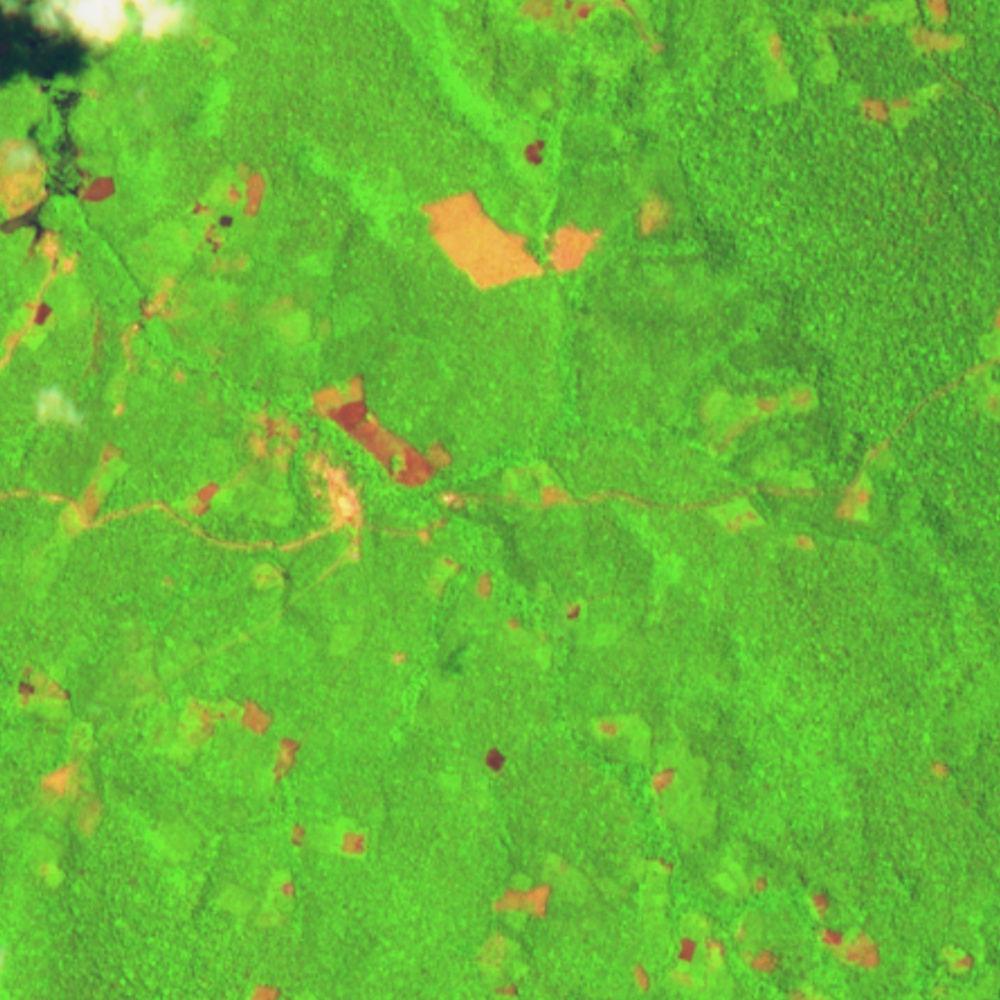legal: (626, 856, 973, 1000), (688, 373, 877, 550), (759, 1, 965, 123), (14, 660, 111, 886), (591, 708, 729, 847), (315, 367, 461, 492), (1, 82, 119, 235), (428, 553, 589, 662), (74, 271, 186, 418), (256, 816, 377, 929), (543, 189, 678, 281), (421, 187, 547, 284), (179, 695, 298, 787), (478, 868, 560, 1000), (192, 156, 272, 285), (511, 1, 670, 57), (53, 444, 134, 529), (517, 130, 554, 165), (484, 742, 510, 778), (928, 760, 952, 782), (251, 983, 281, 1000)
